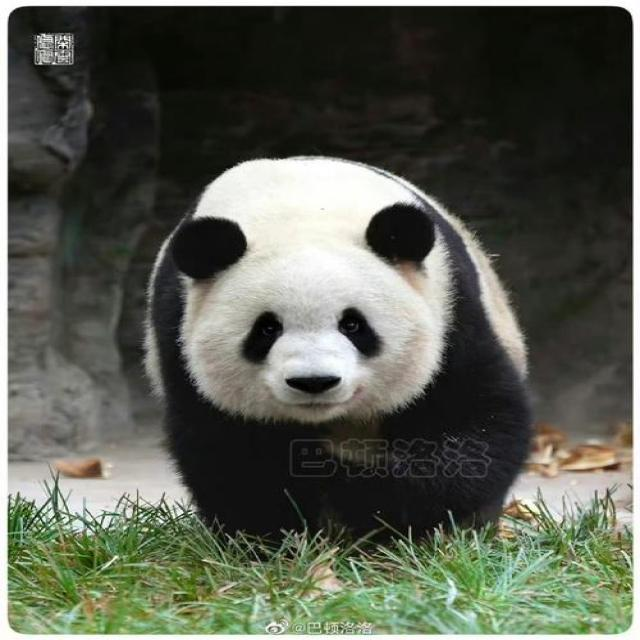panda: (104, 171, 593, 545)
